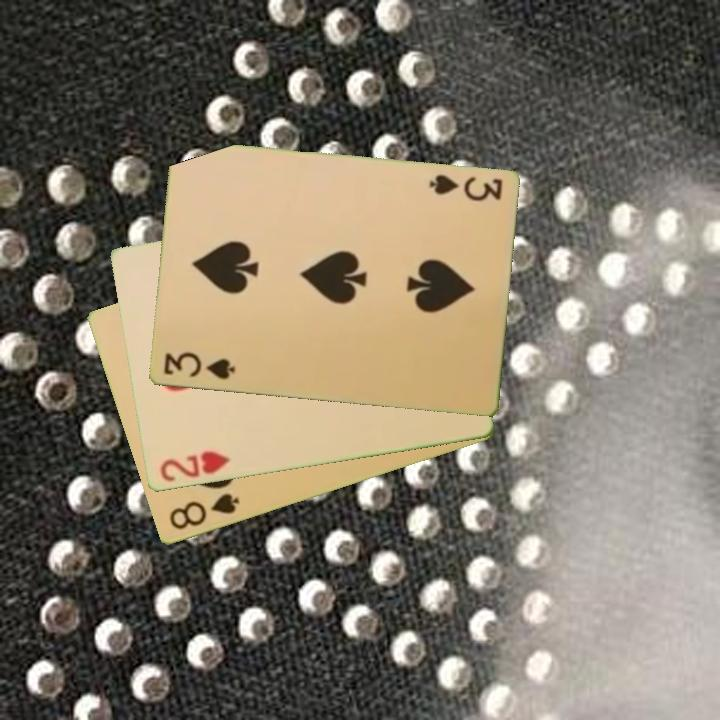2h: (156, 448, 233, 485)
3s: (425, 171, 505, 205), (159, 349, 238, 383)
8s: (165, 490, 242, 533)
